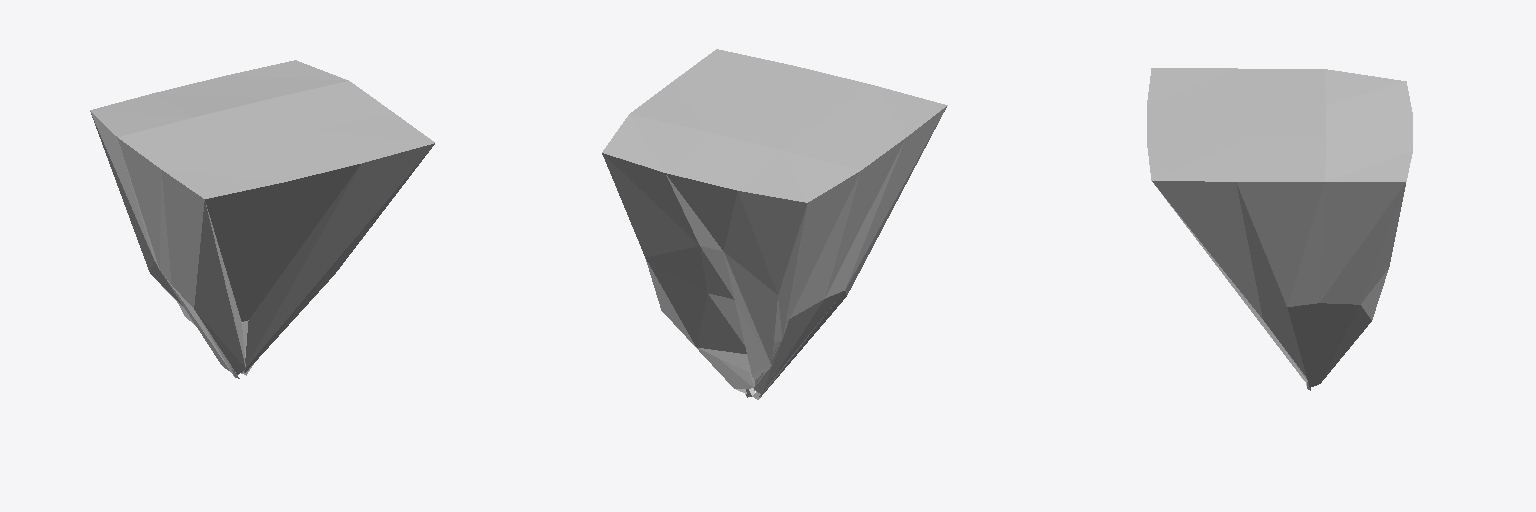
Rendered from stone010.obj.
3 renders of one model, left to right at view 1: azimuth 30°, elevation 25°; view 2: azimuth 150°, elevation 25°; view 3: azimuth 270°, elevation 25°, orthographic.
Parts seen in each view (by area): view 1: Landscape; view 2: Landscape; view 3: Landscape.
Boxes of the visible parts, <box> form: Landscape: <box>90,60,434,378</box>; Landscape: <box>602,49,947,399</box>; Landscape: <box>1147,68,1412,390</box>.
Bounding box in the file's own units: 0.4293 × 0.4647 × 0.4253.